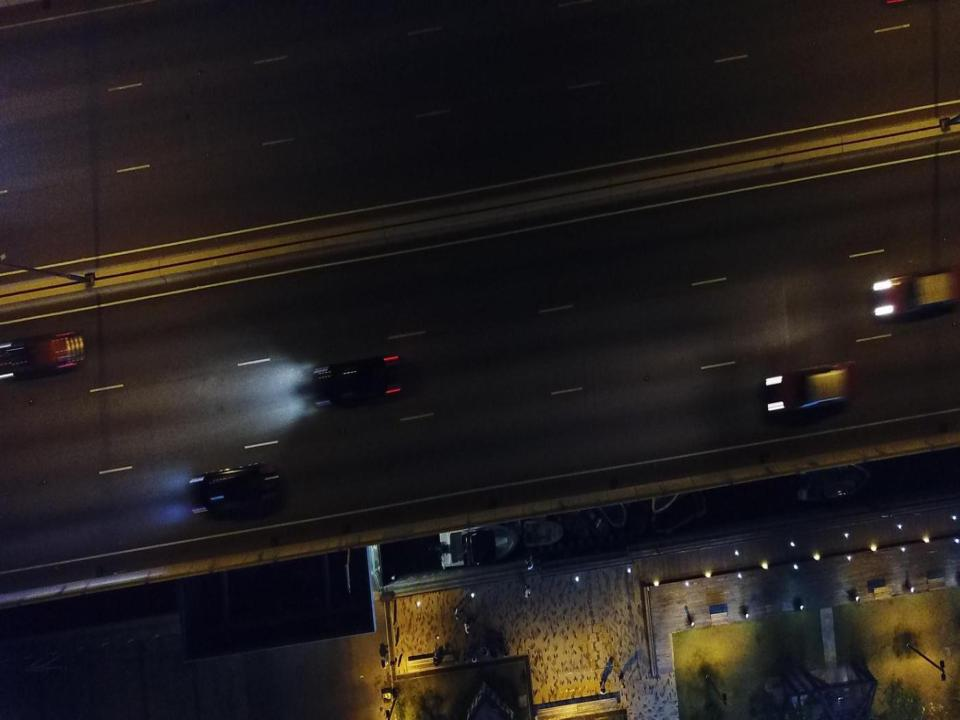car: (312, 349, 404, 408), (765, 363, 855, 423), (191, 460, 283, 515), (0, 330, 85, 389), (872, 268, 958, 323)
